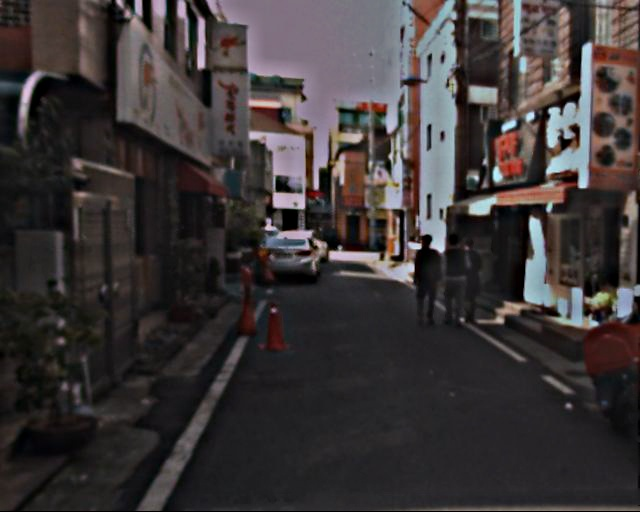person: (439, 233, 478, 329), (412, 235, 450, 327), (457, 234, 493, 322)
